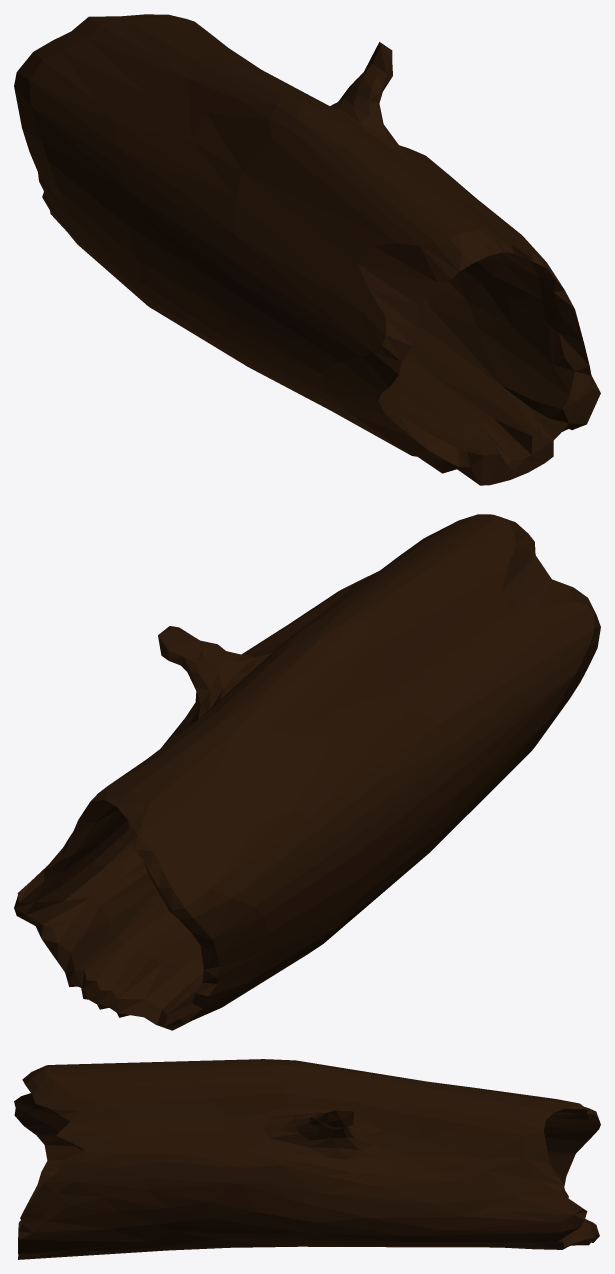
Rendered from SOUCHE.fbx.
The picture shows the model from 3 angles, top to bottom: view 1: azimuth 30°, elevation 25°; view 2: azimuth 150°, elevation 25°; view 3: azimuth 270°, elevation 25°; orthographic projection. The views are drawn at different scales.
Parts seen in each view (by area): view 1: tronc; view 2: tronc; view 3: tronc.
Part boxes in pixels (<box>): tronc: <box>14,14,600,485</box>; tronc: <box>14,514,600,1030</box>; tronc: <box>14,1059,600,1259</box>.
Bounding box in the file's own units: 223 × 238 × 668.
